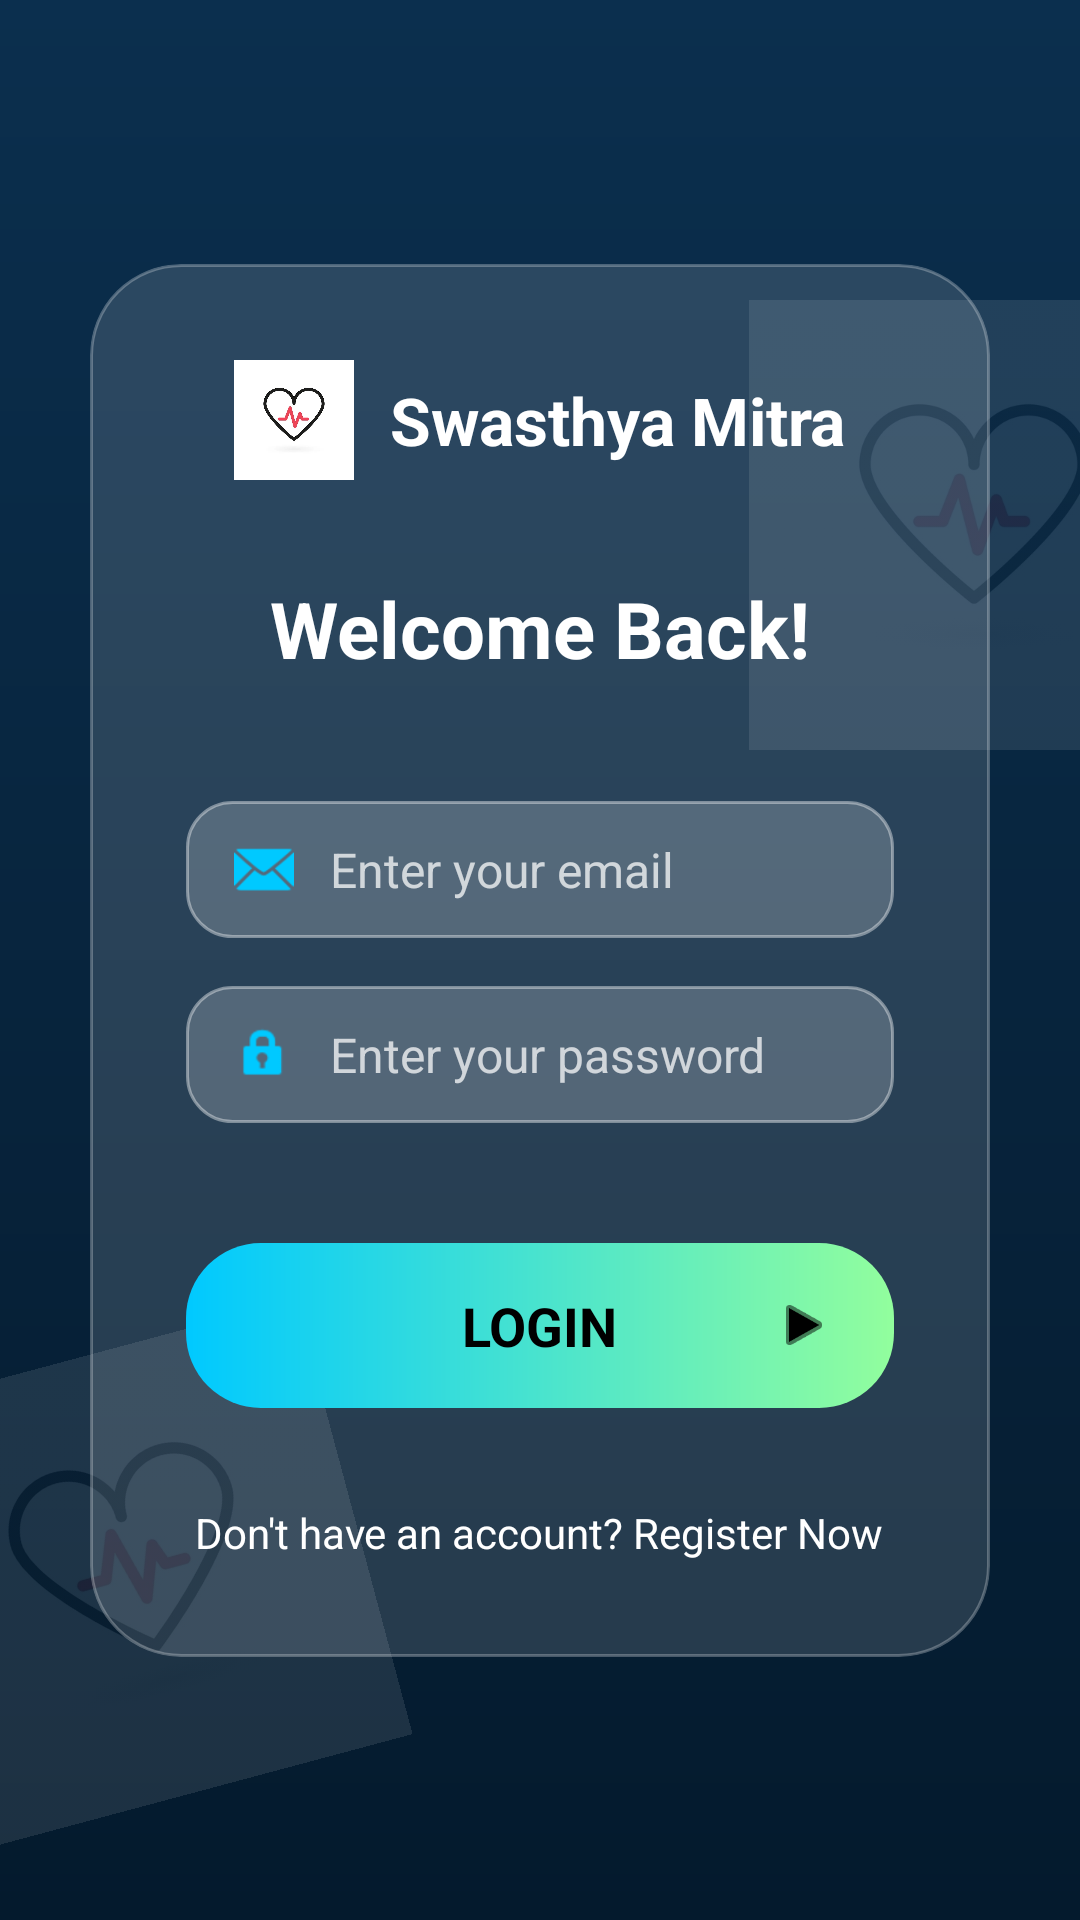

Screen size 1080 x 1920. Icon name, then its center in pixels as [x,y]:
heart rate: [294,420]
lock idle: [262,1052]
play: [804,1325]
